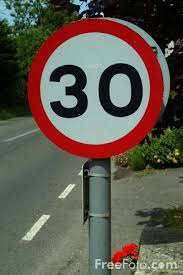Speed_limit_30km: (26, 19, 166, 157)
